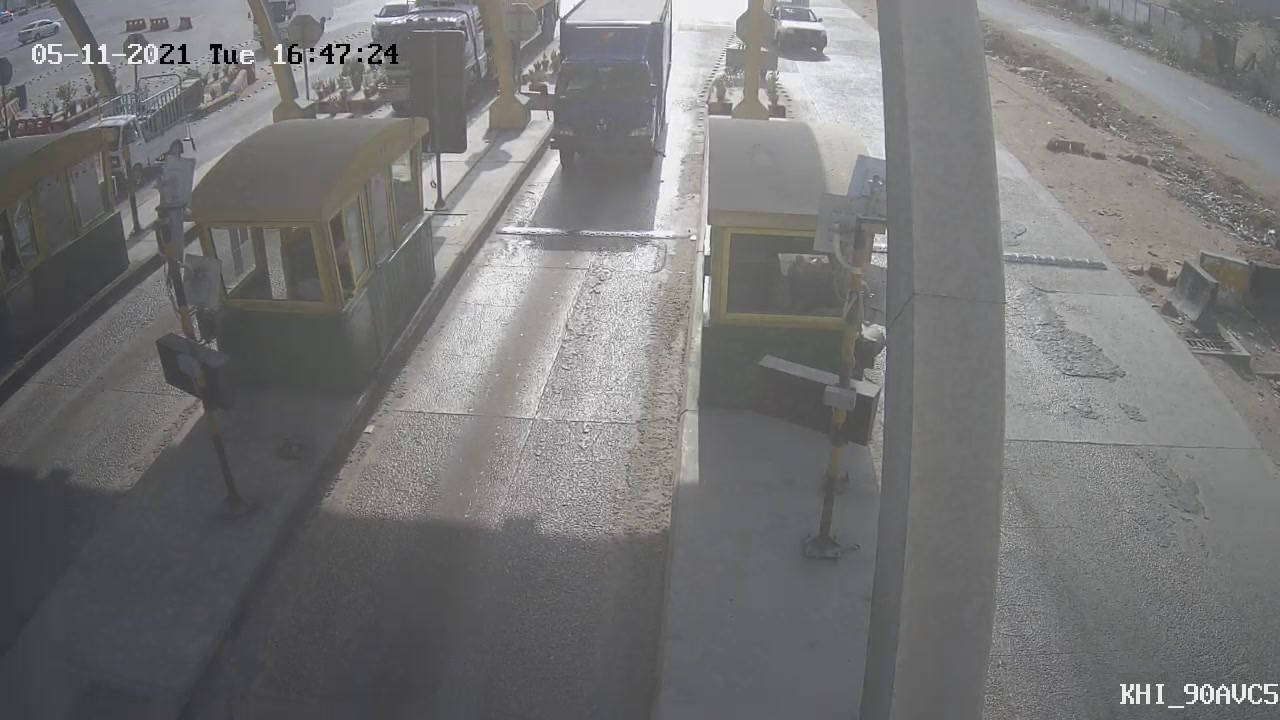F5: (540, 3, 687, 191)
